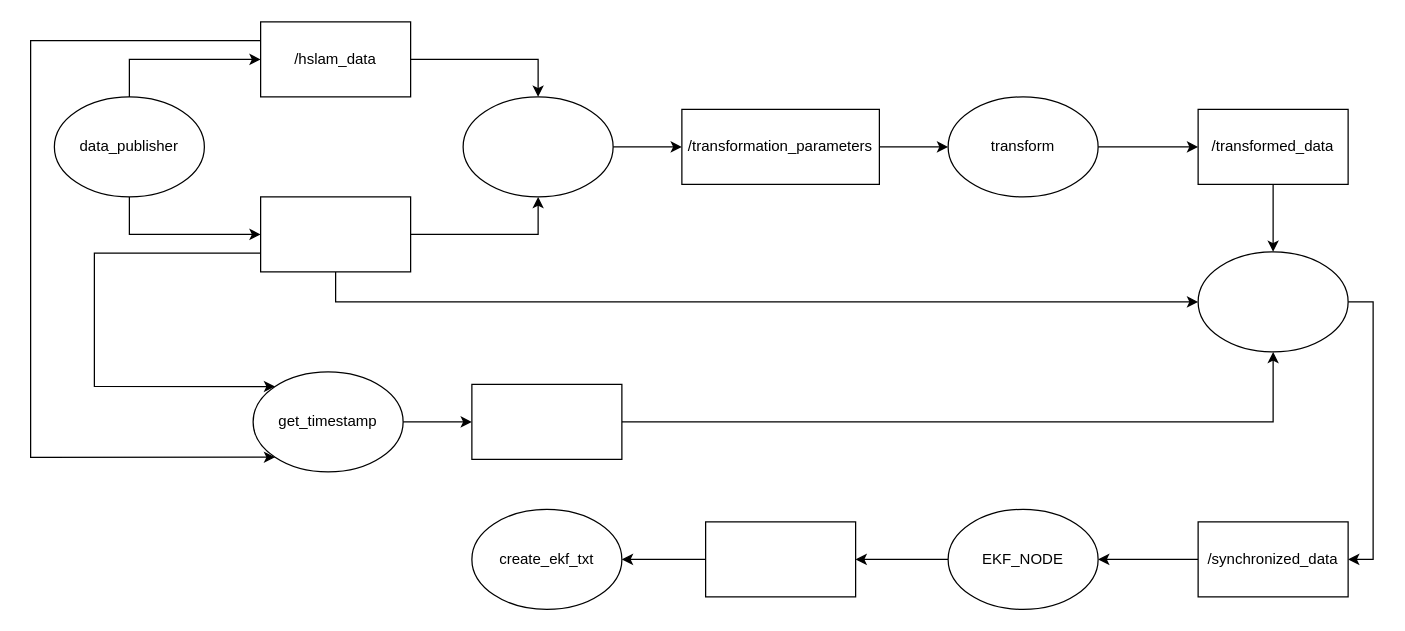
Some shapes in this 1405 by 631 pixel diagram are drawn without their labels. The centre of each missing label's shape, as x and y in pixels:
/gps_data: point (335, 234)
/odometry_filtered: point (780, 559)
/ordered_timestamps: point (546, 421)
get_transformation: point (537, 146)
synchronize_data: point (1272, 301)
